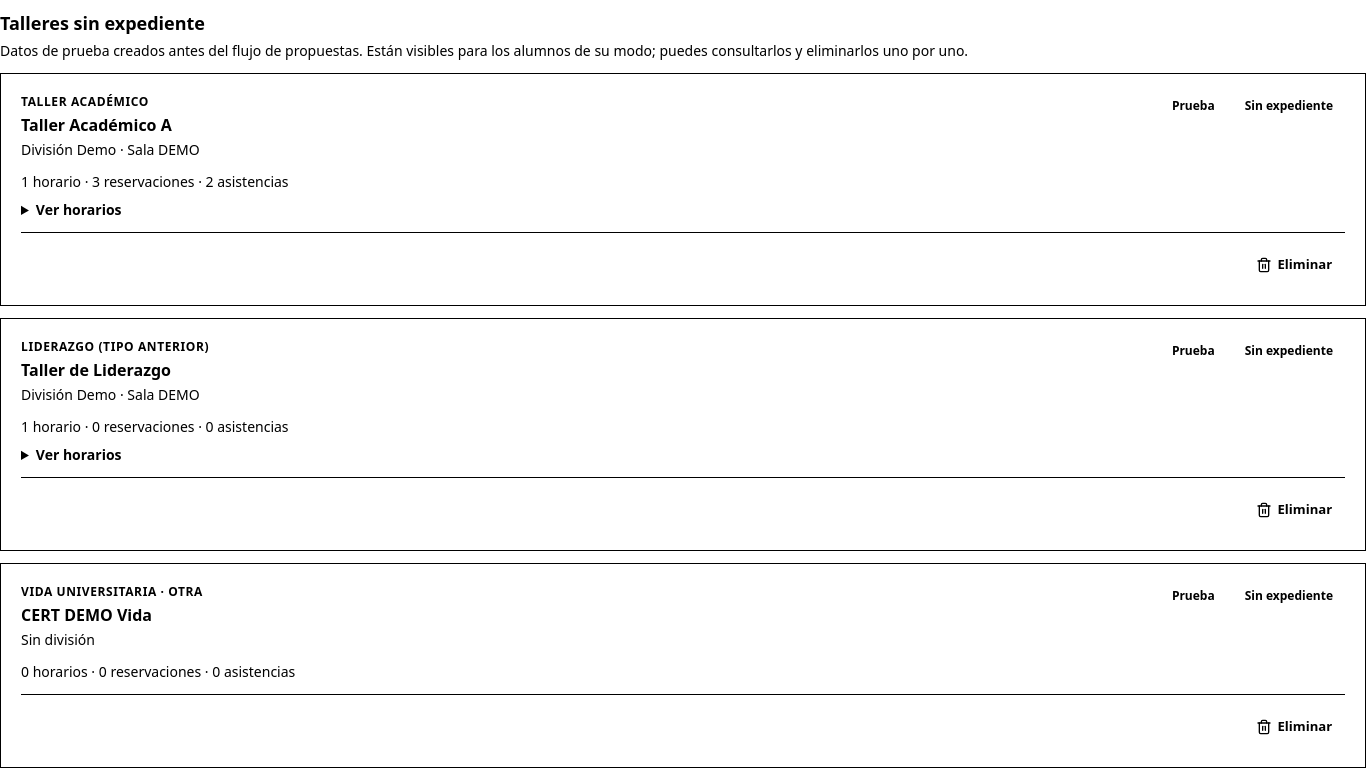
Test: a failed deletion keeps the workshop listed and explains the error
The width and height of the screenshot is (1366, 768).
(page scrolled)
Click the button with aria-label "Eliminar taller Taller de Liderazgo". click: point(1294, 510)
box: [1243,490,1345,530]
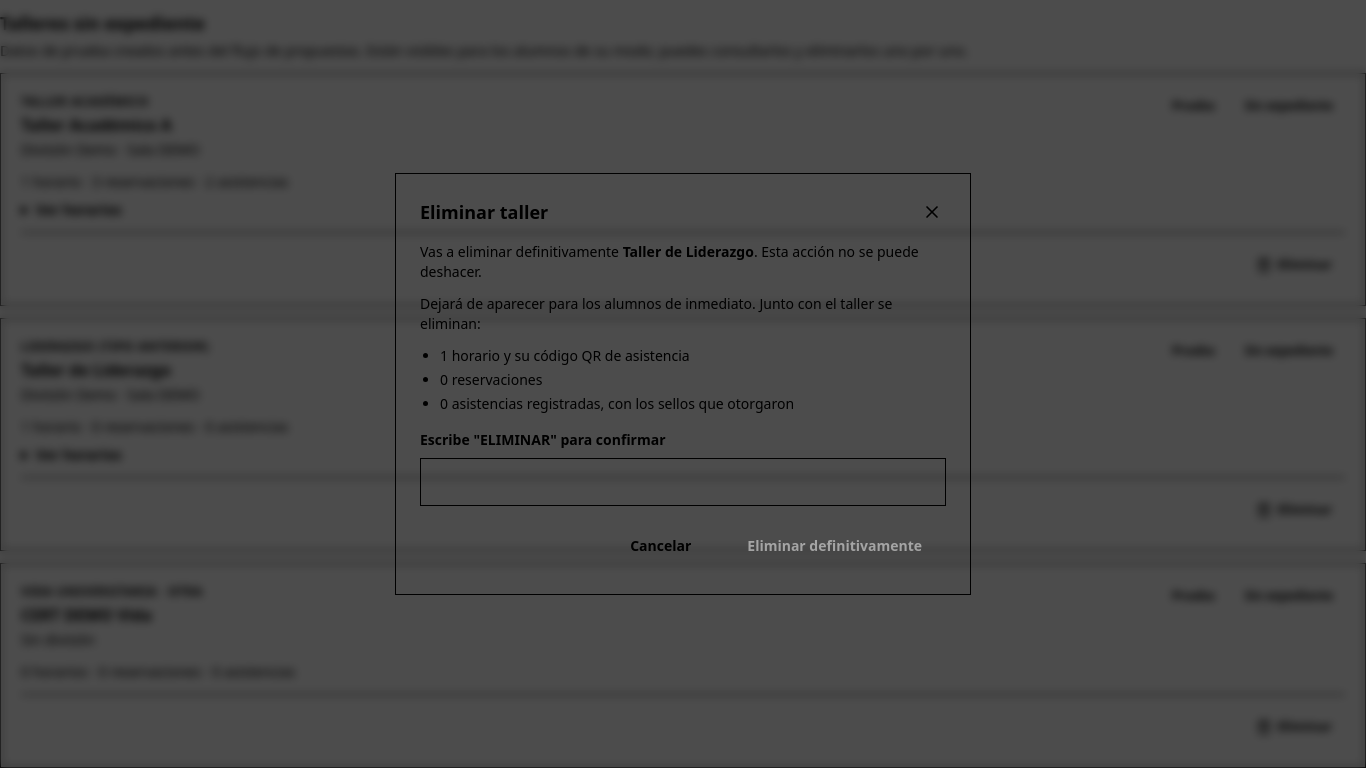
Type "ELIMINAR" into the field labelled "Escribe \"ELIMINAR\" para confirmar". click: point(683, 482)
box: [420,458,946,506]
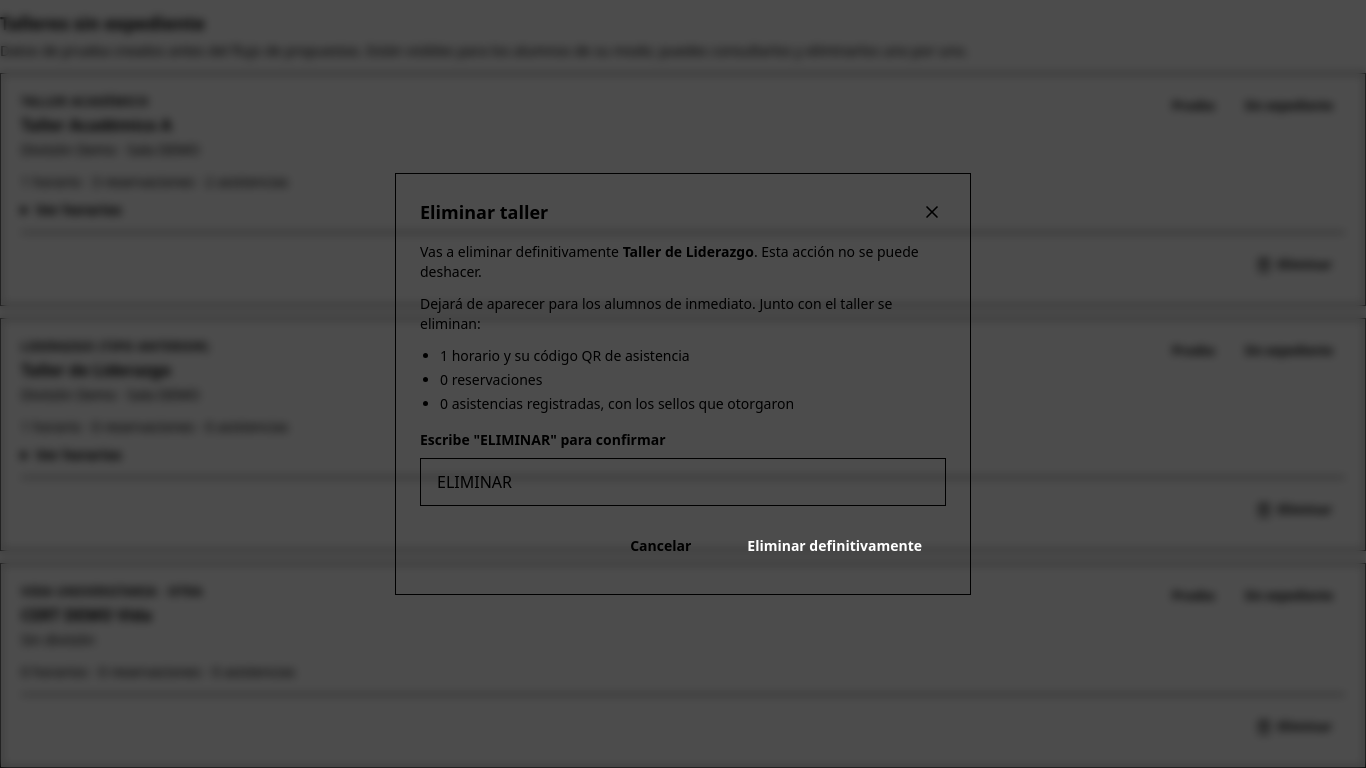
Click the button "Eliminar definitivamente". click: point(835, 546)
box: [723,522,946,570]
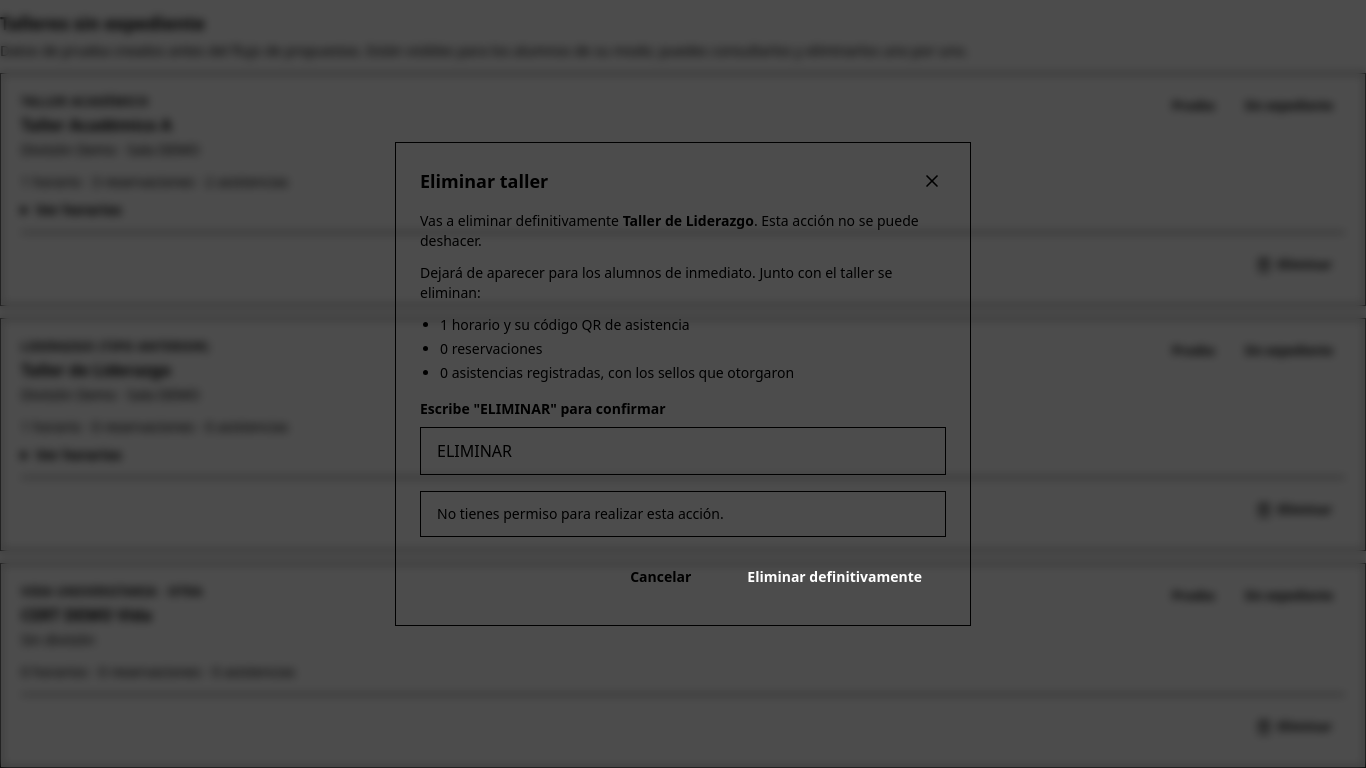
Check: the heading "Taller de Liderazgo" is shown, box [21,359,171,381]
Check: the message "No tienes permiso para realizar esta acción." is shown, box [420,491,946,537]
